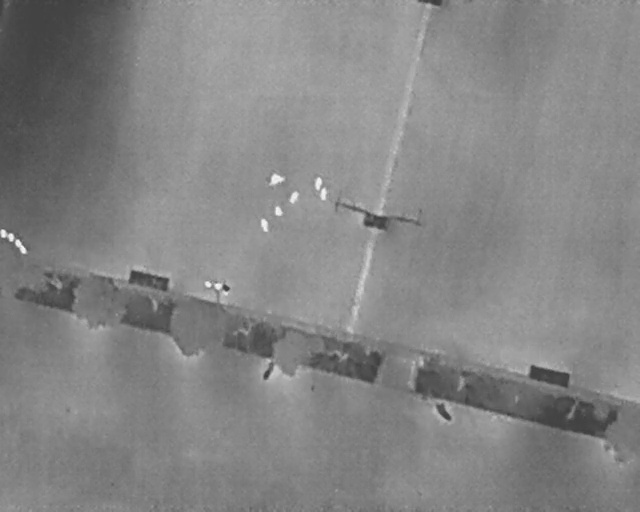Person: (269, 173, 286, 186), (288, 188, 301, 204), (258, 217, 270, 232), (320, 187, 328, 201), (274, 205, 283, 217), (315, 176, 322, 191)
